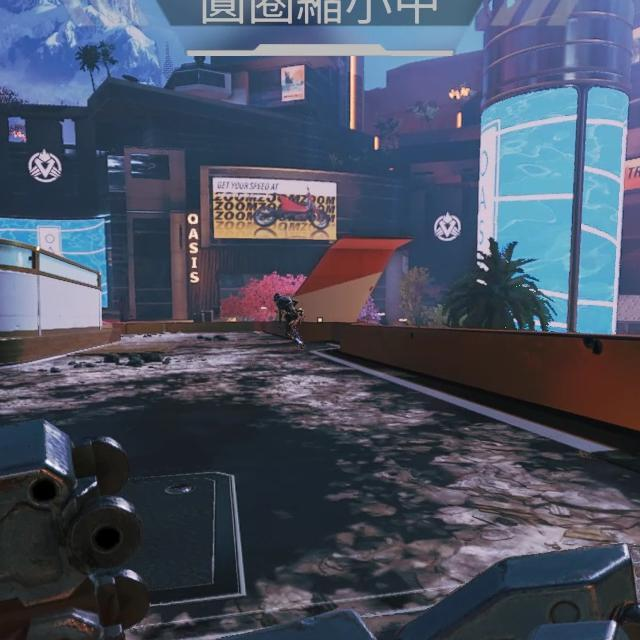avatar: (272, 291, 304, 346)
